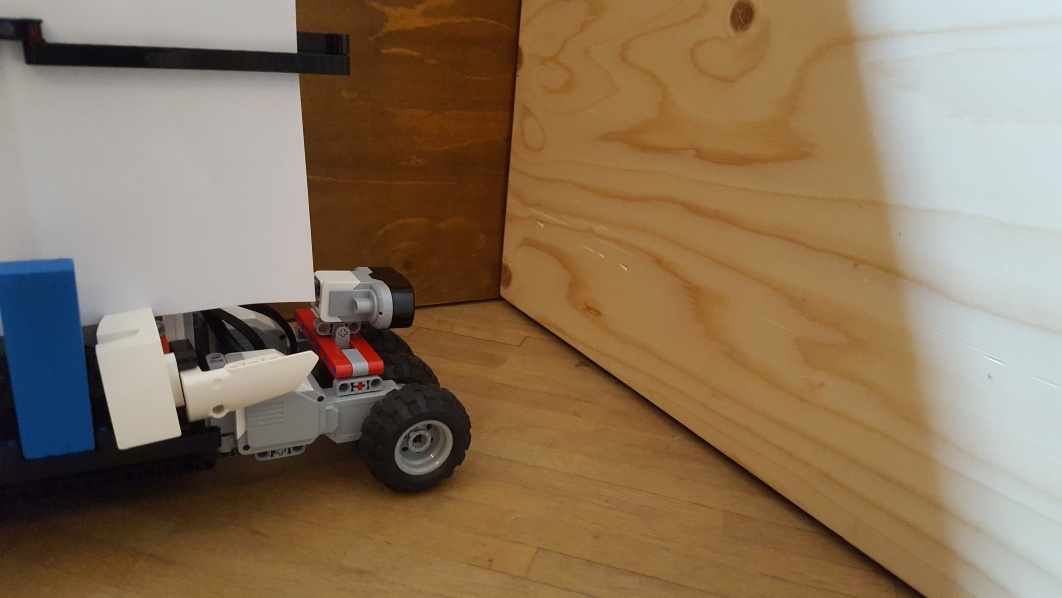car: (1, 1, 474, 498)
